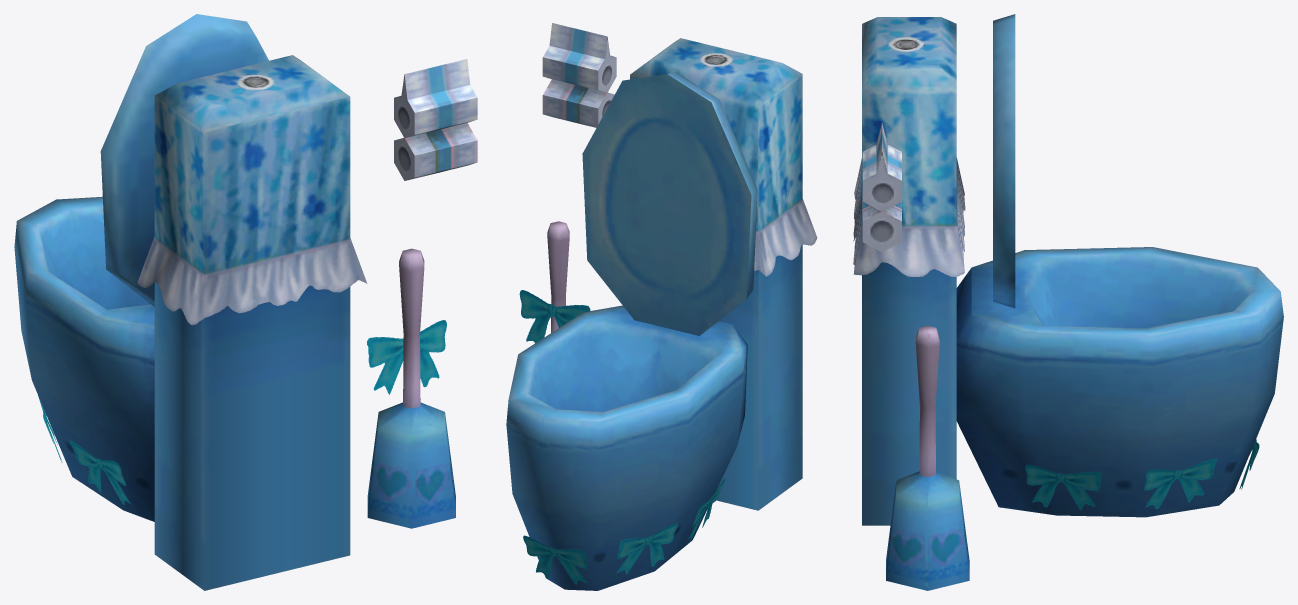
Rendered from furni_0200031_03.FBX.
The picture shows the model from 3 angles, left to right: view 1: azimuth 30°, elevation 25°; view 2: azimuth 150°, elevation 25°; view 3: azimuth 270°, elevation 25°; orthographic projection. The views are drawn at different scales.
Visible parts, largest first — view 1: furni_0200031_03; view 2: furni_0200031_03; view 3: furni_0200031_03.
Boxes of the visible parts, box(x1,y1,x2,y2) form: furni_0200031_03: box(14, 14, 477, 590); furni_0200031_03: box(506, 23, 817, 590); furni_0200031_03: box(853, 14, 1283, 590).
Size of the model in its own units: 68.1 by 105 by 86.67.
